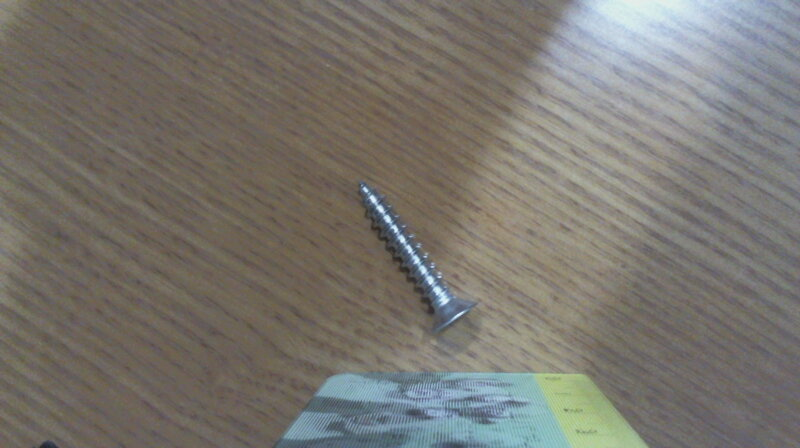S001: (350, 174, 481, 343)
